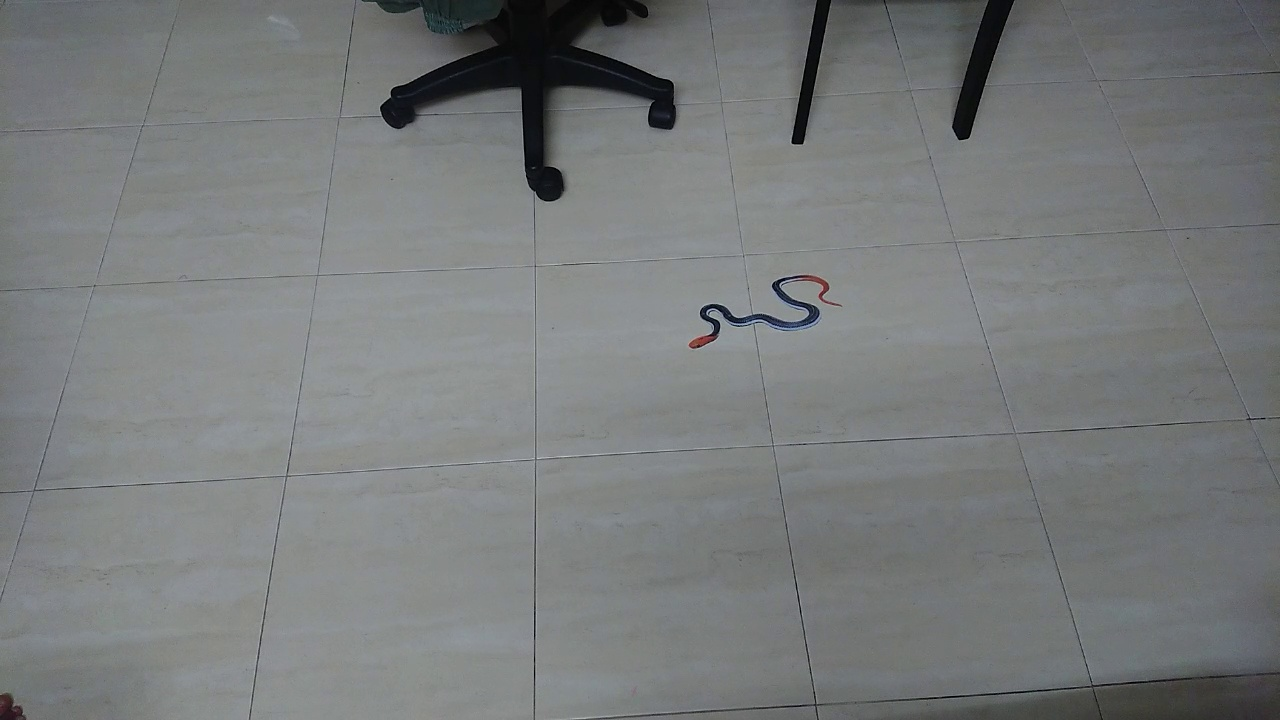snake: (672, 257, 853, 359)
